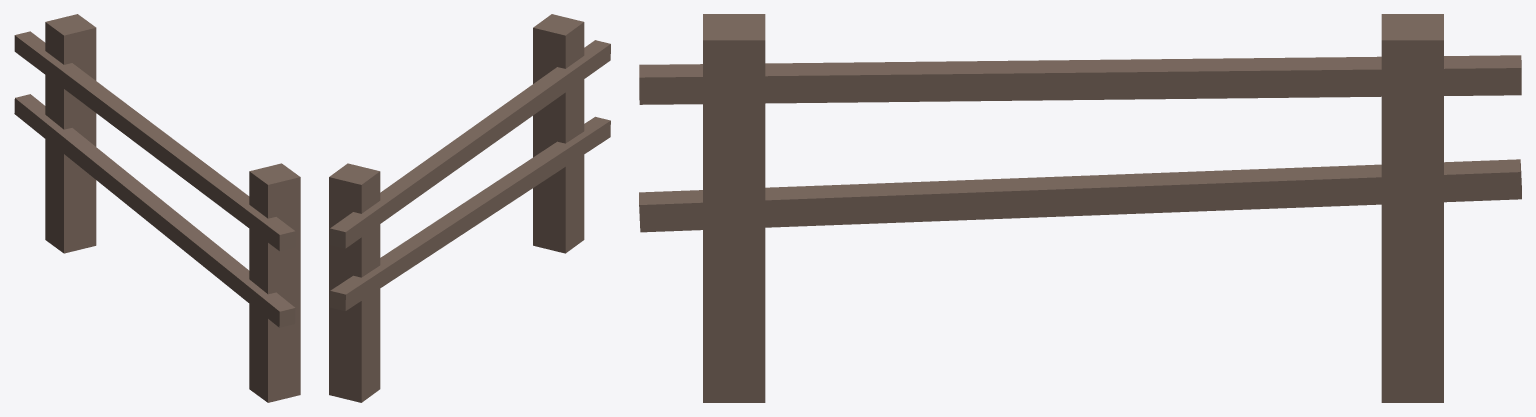
The model's file is Fence.fbx.
3 views of the same model, side by side, from view 1: azimuth 30°, elevation 25°; view 2: azimuth 150°, elevation 25°; view 3: azimuth 270°, elevation 25° (orthographic). The views are drawn at different scales.
Visible parts, largest first — view 1: pCube69; view 2: pCube69; view 3: pCube69.
Part boxes in pixels (x1=…): pCube69: x1=14, y1=14, x2=300, y2=402; pCube69: x1=329, y1=14, x2=610, y2=402; pCube69: x1=639, y1=14, x2=1521, y2=402.
Size of the model in its own units: 0.0336 by 0.1753 by 0.3868.
